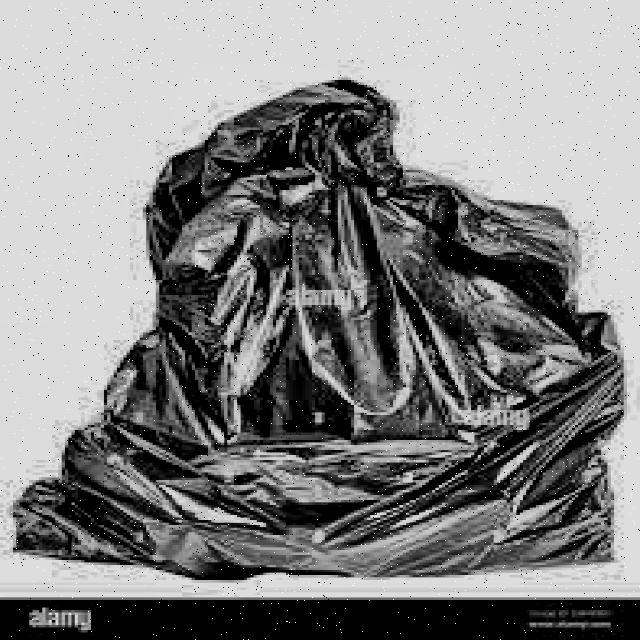Trashbag: (8, 73, 628, 583)
